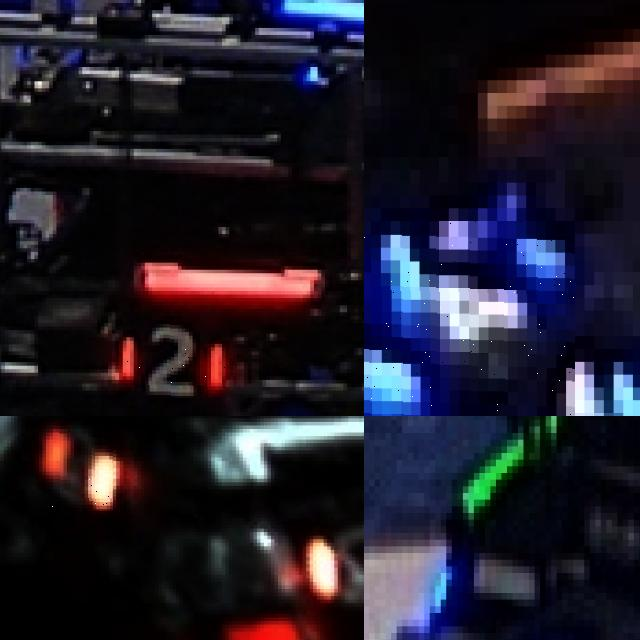B4: (364, 221, 574, 416), (507, 349, 640, 416)
R2: (119, 316, 226, 398)
Rs: (42, 429, 113, 511), (309, 525, 364, 596)
